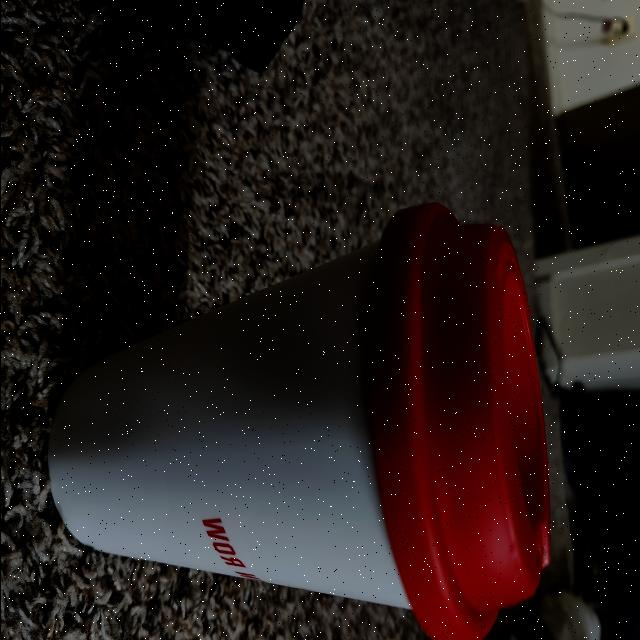mug: (36, 201, 552, 639)
